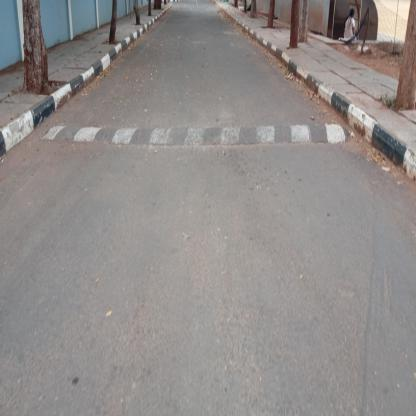speed-bumps: (32, 112, 354, 150)
